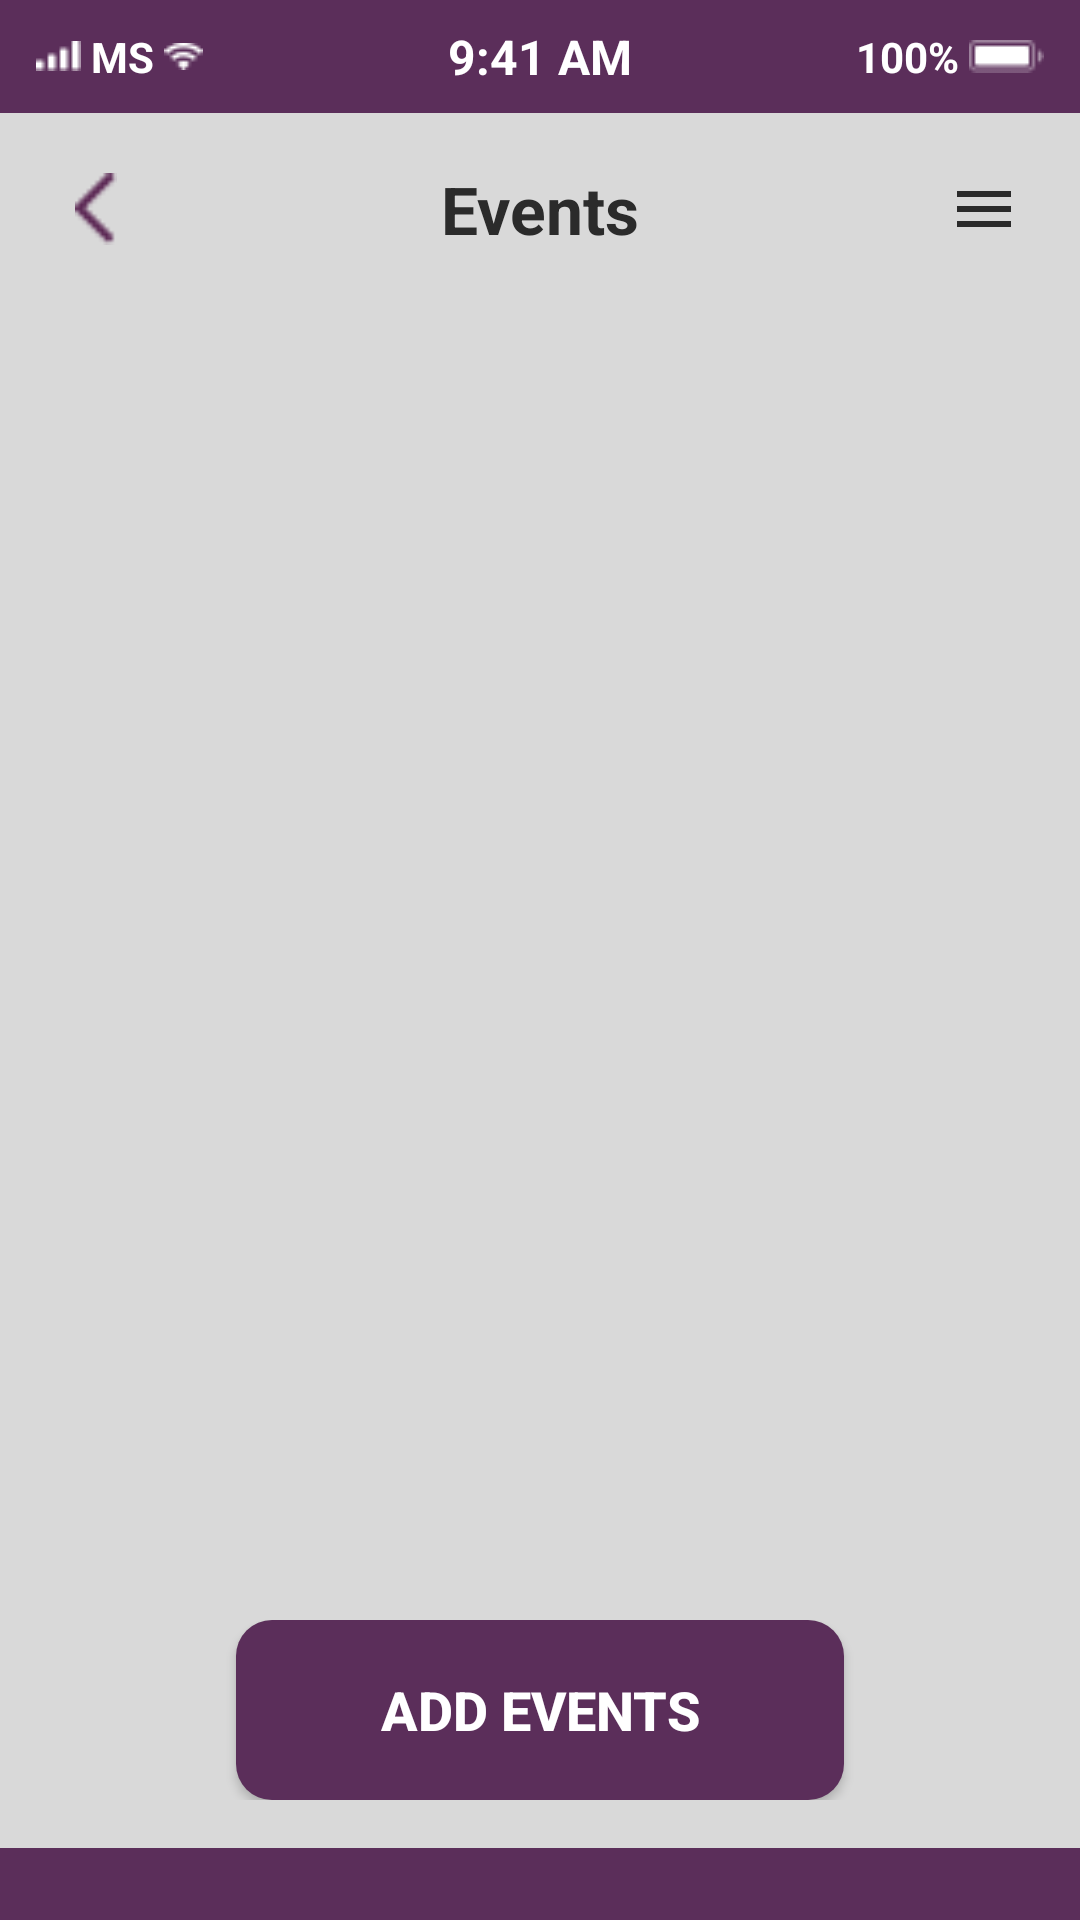

Where to tap for icons on this 1080 x 1920 app screen, as [x,y]:
Back: [95,208]
battery: [1006,56]
Menu: [984,209]
mobilesignal: [58,56]
wifi: [183,56]
